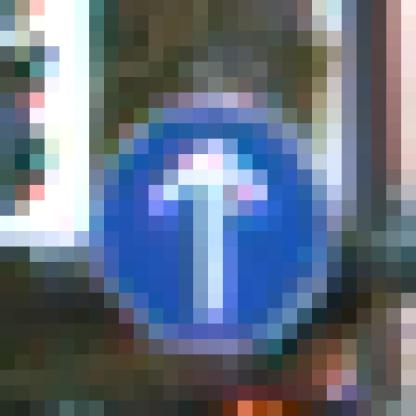AheadOnly: (75, 93, 343, 340)
